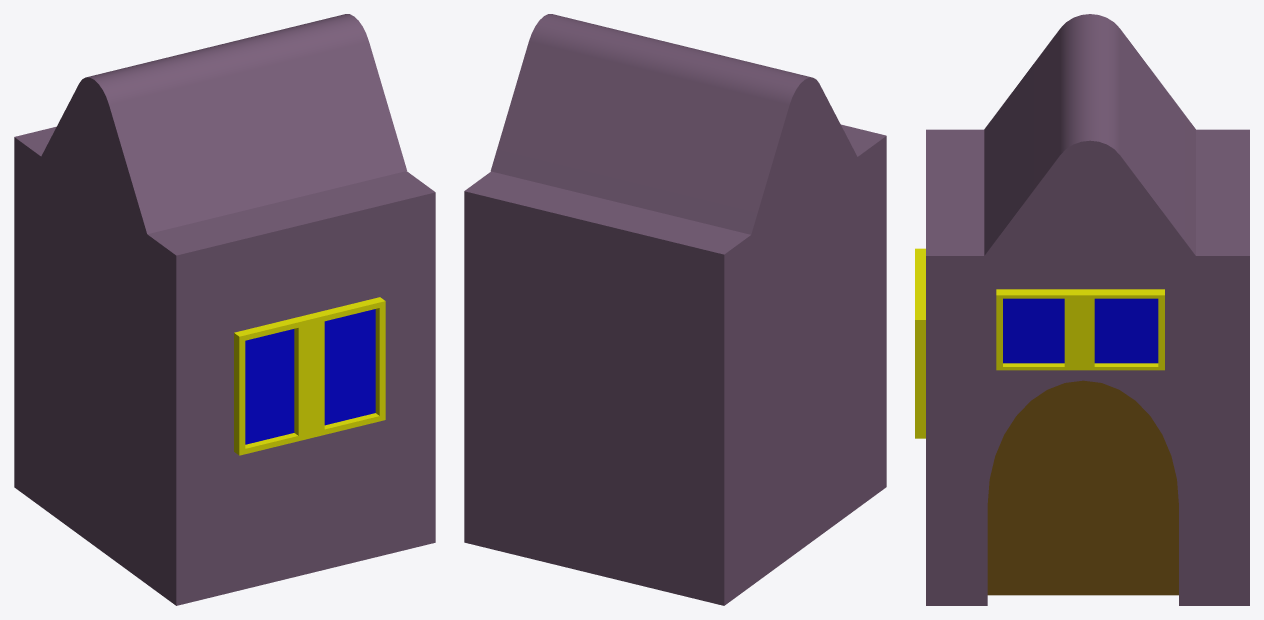
File: B2S1Fix2.fbx
3 views of the same model, side by side, from view 1: azimuth 30°, elevation 25°; view 2: azimuth 150°, elevation 25°; view 3: azimuth 270°, elevation 25° (orthographic).
Visible parts, largest first — view 1: polySurface25, polySurface27, pCube63; view 2: polySurface25, polySurface27; view 3: polySurface25, polySurface27, pCube64, pCube63.
Part boxes in pixels (<box>): polySurface25: <box>14,126,435,605</box>; polySurface27: <box>41,14,406,234</box>; pCube63: <box>234,297,385,455</box>; polySurface25: <box>464,124,886,605</box>; polySurface27: <box>490,14,857,234</box>; polySurface25: <box>926,129,1249,605</box>; polySurface27: <box>984,14,1195,256</box>; pCube64: <box>996,289,1164,370</box>; pCube63: <box>915,248,925,438</box>.
Size of the model in its own units: 1042 by 1707 by 1112.
